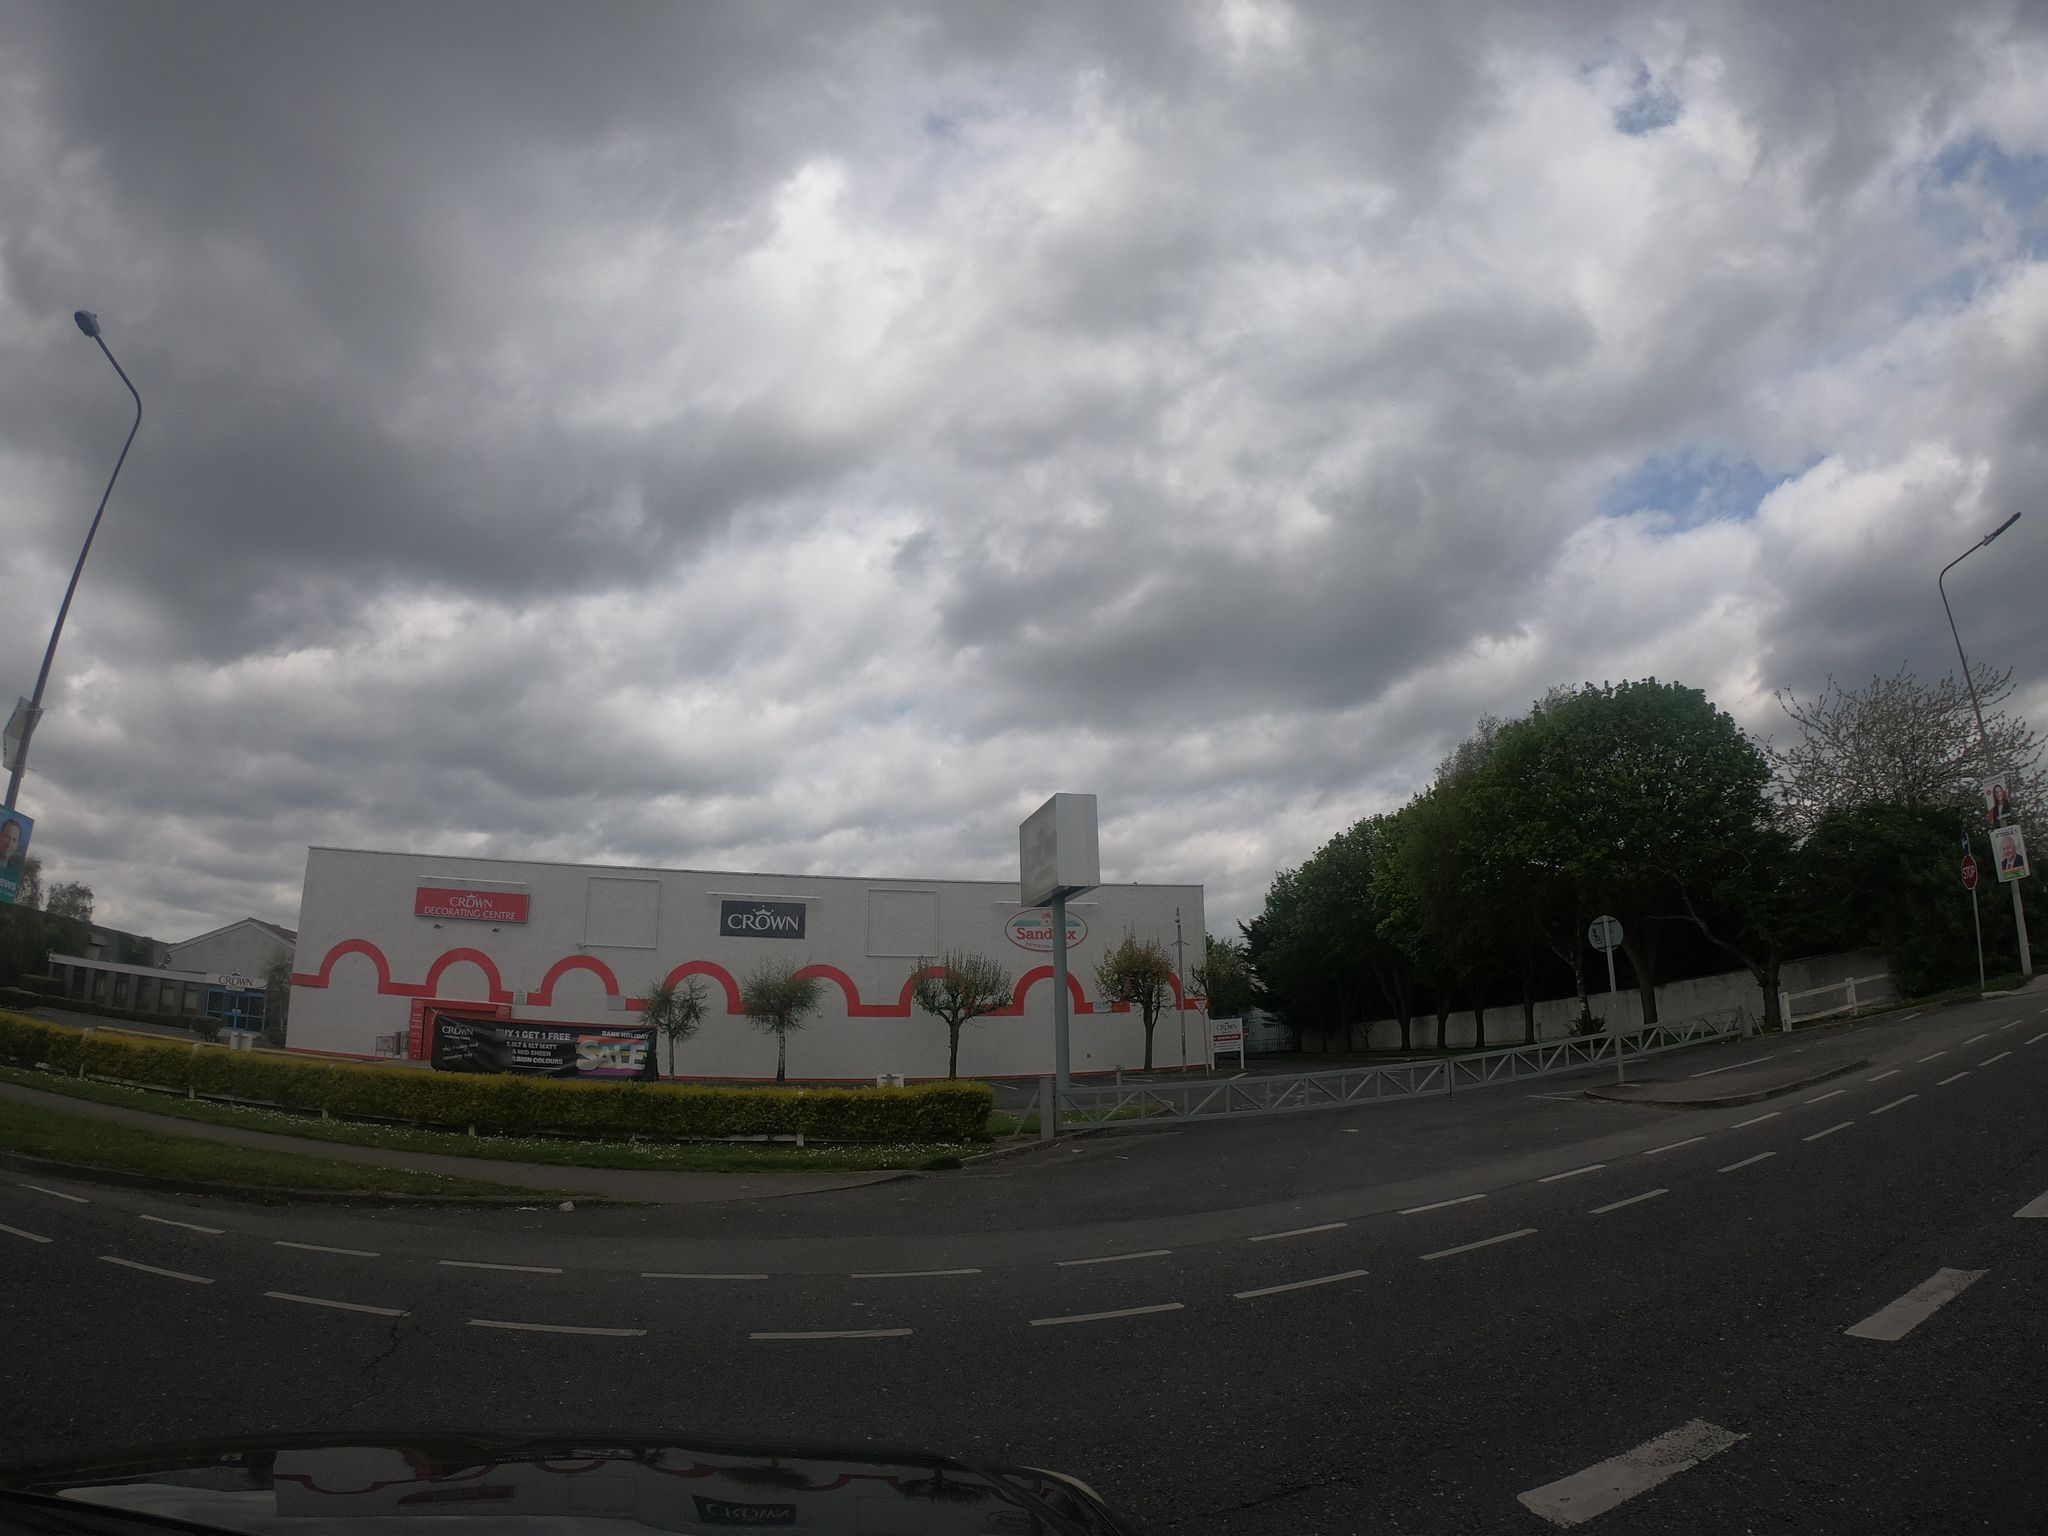vinyl banner: (418, 1000, 671, 1087)
